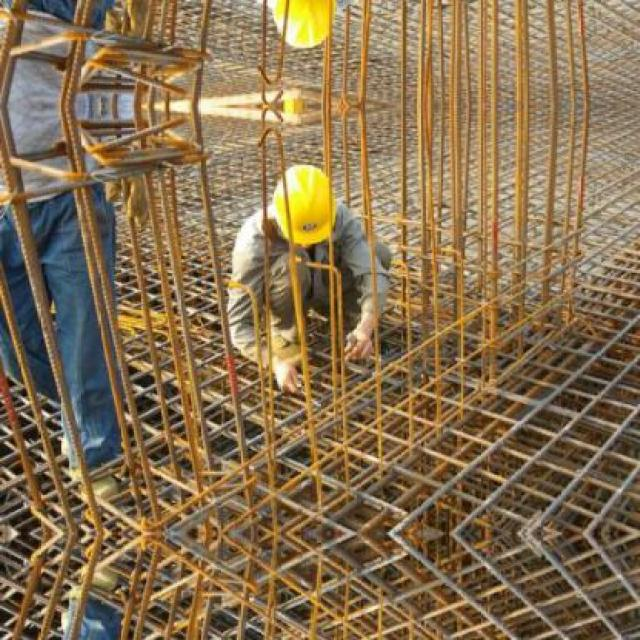helmet: (271, 163, 338, 240), (271, 0, 340, 51)
